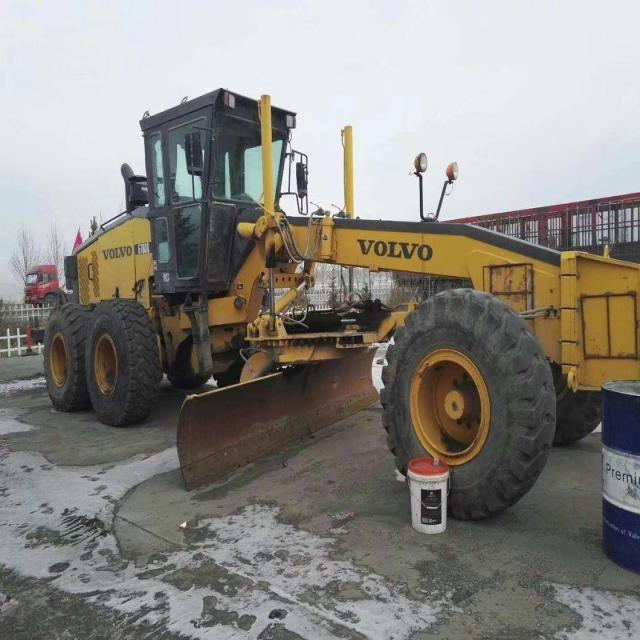Grader: (33, 76, 640, 514)
